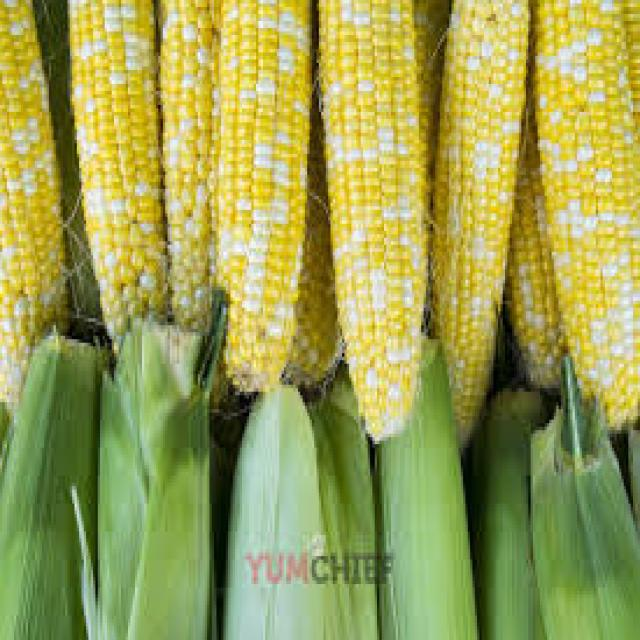corn: (430, 0, 537, 452), (318, 0, 425, 447), (205, 0, 314, 402), (71, 0, 174, 403), (544, 0, 640, 425), (139, 11, 218, 390), (0, 0, 72, 381)
